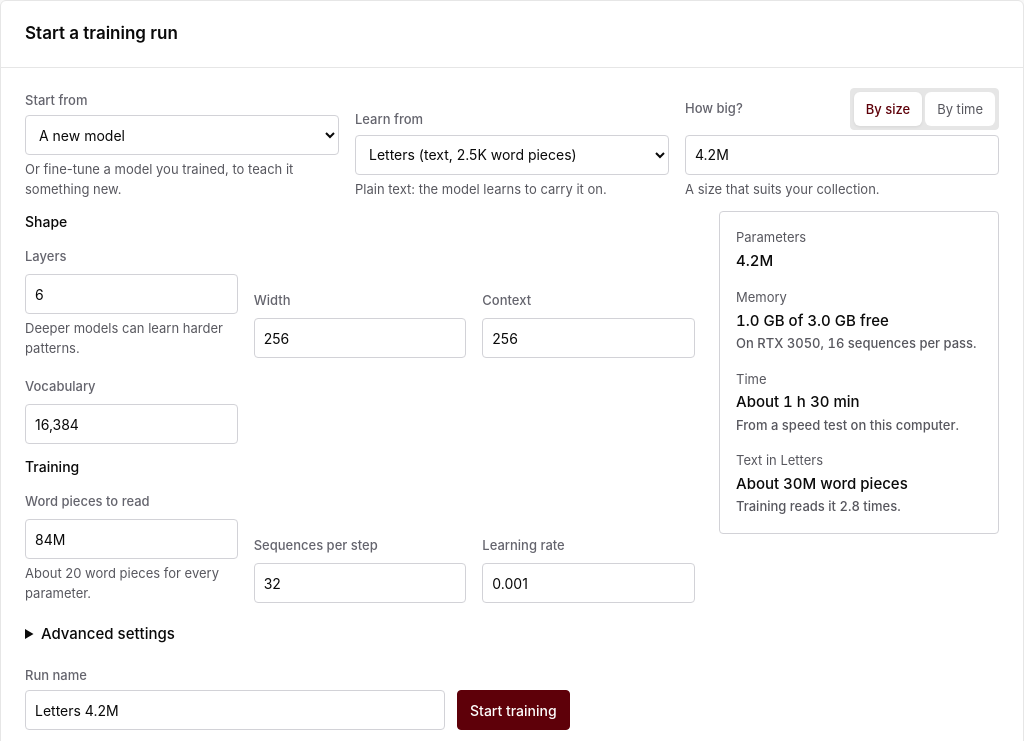
Test: shows the server's reason when it will not start
Expected: the text "Deeper models can learn harder patterns." is shown, [25,319,238,358]
Click the button "Start training" at x=513, y=710, box [457,690,570,730]
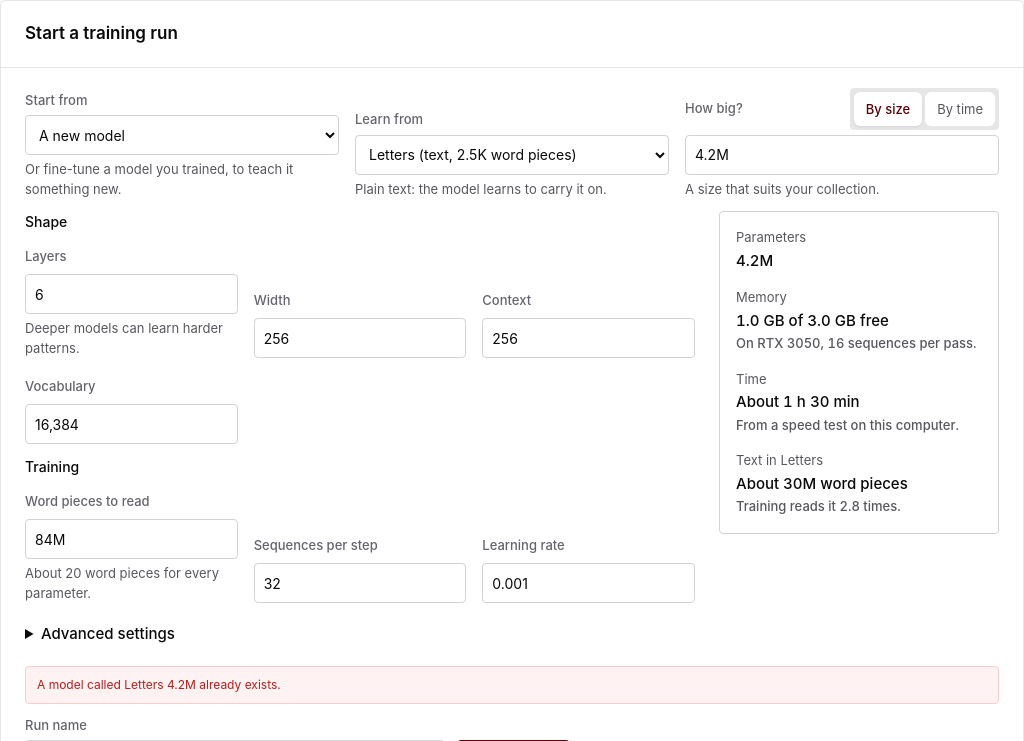
Result: the text "A model called Letters 4.2M already exists." is shown at [25,666,999,704]
